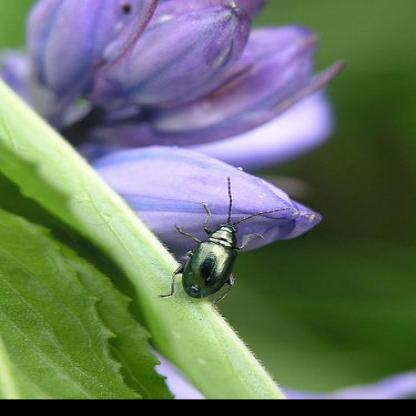beetle: (163, 178, 273, 310)
